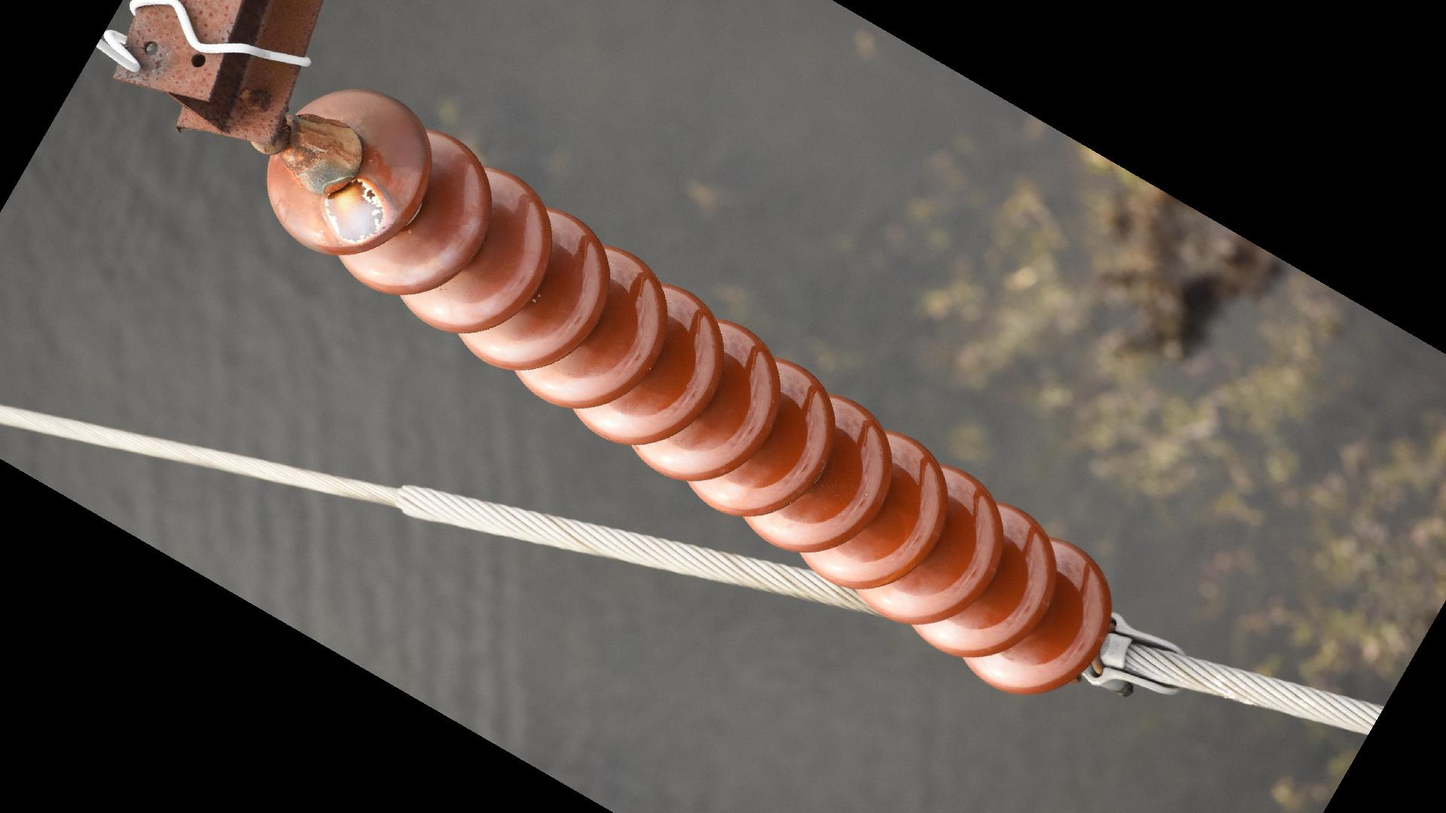insulator: (258, 81, 1122, 700)
insulator_flashover: (322, 172, 395, 245)
